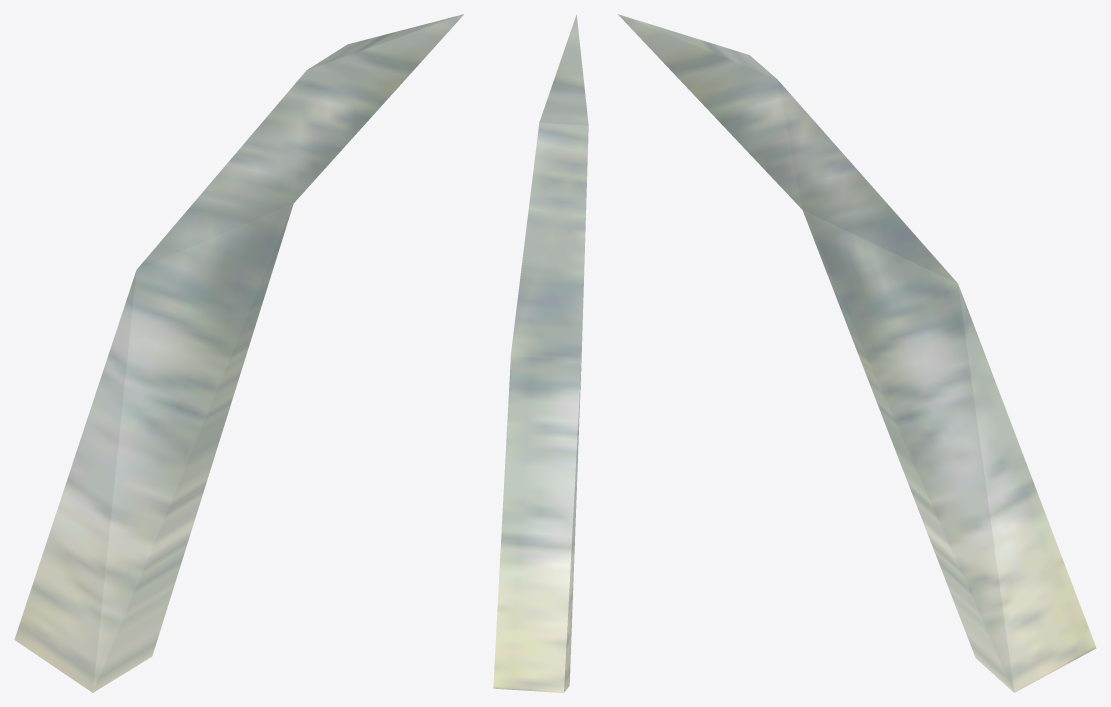
File: rib11.glb
The picture shows the model from 3 angles, left to right: view 1: azimuth 30°, elevation 25°; view 2: azimuth 150°, elevation 25°; view 3: azimuth 270°, elevation 25°; orthographic projection. The views are drawn at different scales.
Visible parts, largest first — view 1: rib11; view 2: rib11; view 3: rib11.
Boxes of the visible parts, x1,y1,x2,y2 form: rib11: [14, 14, 463, 692]; rib11: [493, 15, 588, 692]; rib11: [618, 14, 1096, 692].
Bounding box in the file's own units: 625 × 2143 × 1280.
1 material, 1 textured.
